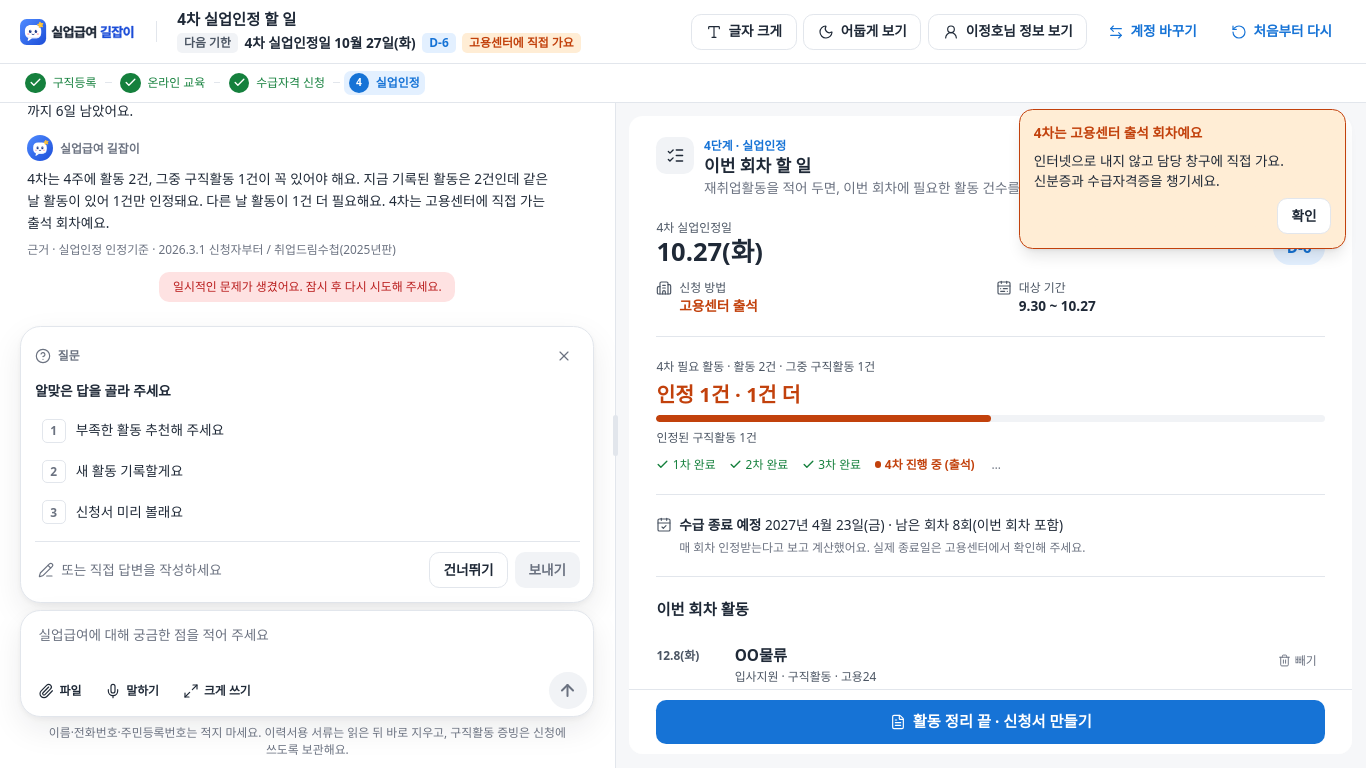
Test: 완료 단계 읽기 전용 다시 보기 (1.8) › 수급자격 신청을 누르면 신청 완료 상태의 패널 Q를 보여 준다
(page scrolled)
What coordinates should you click on to do the following:
click the button with aria-label "수급자격 신청 단계 다시 보기 (완료)"
I would click on:
 (277, 83)
Its box is [224,71,330,95].
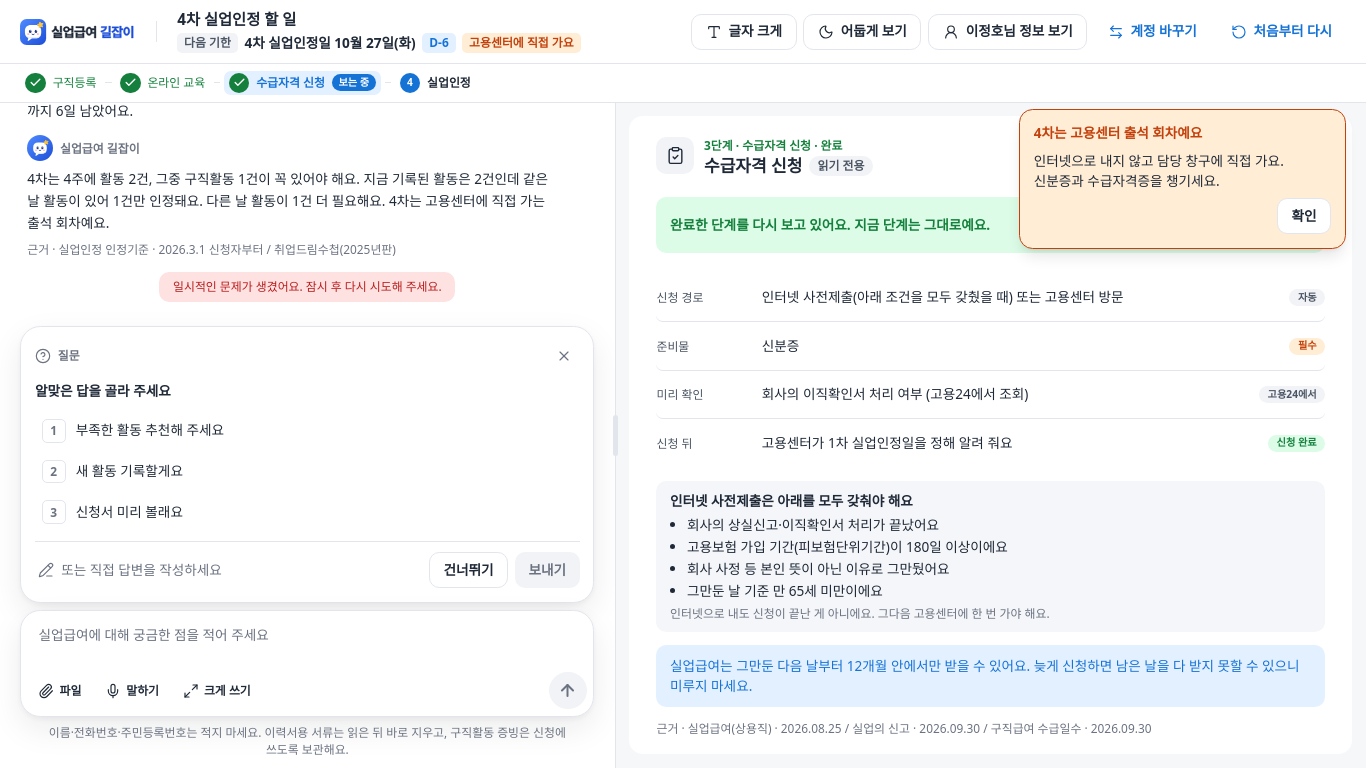
Check: the heading "수급자격 신청 읽기 전용" is shown, box [704,155,873,177]
Check: the text "신청 완료" is shown, box [1268,435,1325,452]
